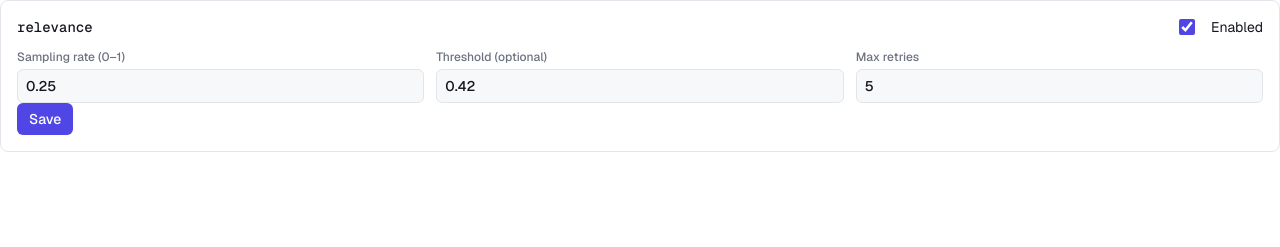
Test case: EvaluatorConfigForm › clears a stale saved/error status as soon as the user edits a field again
This screenshot has width=1280, height=247.
Click the button "Save" at (45, 119), box x1=17 y1=103 x2=73 y2=135
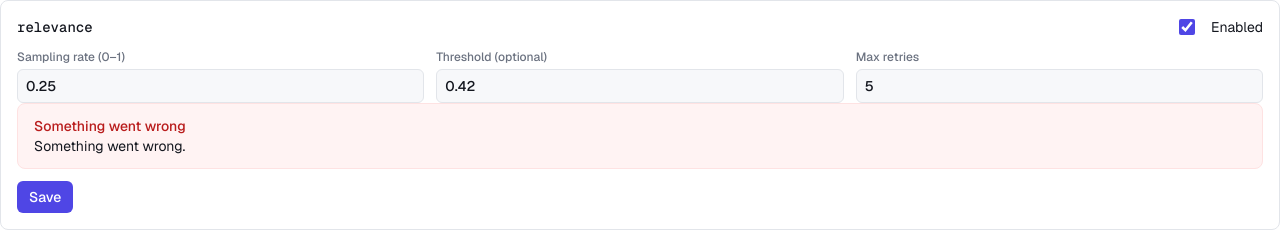
Now the text "Something went wrong." is shown, box x1=34 y1=136 x2=186 y2=156
Replace the text in the number field labelled "Max retries" with "4" at (1059, 86), box x1=856 y1=69 x2=1263 y2=103
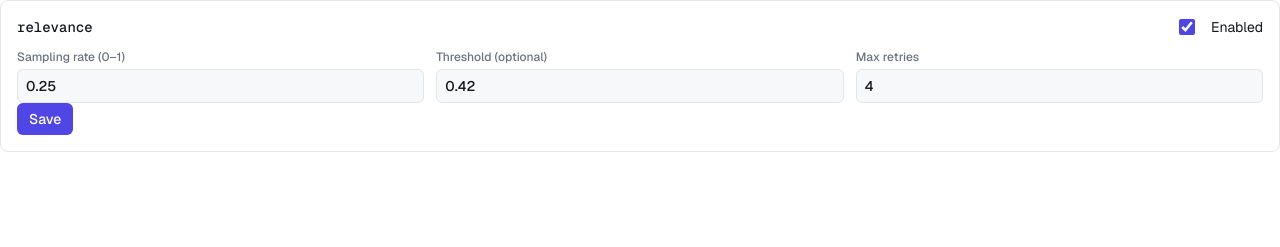
Now the text "Something went wrong." is gone
